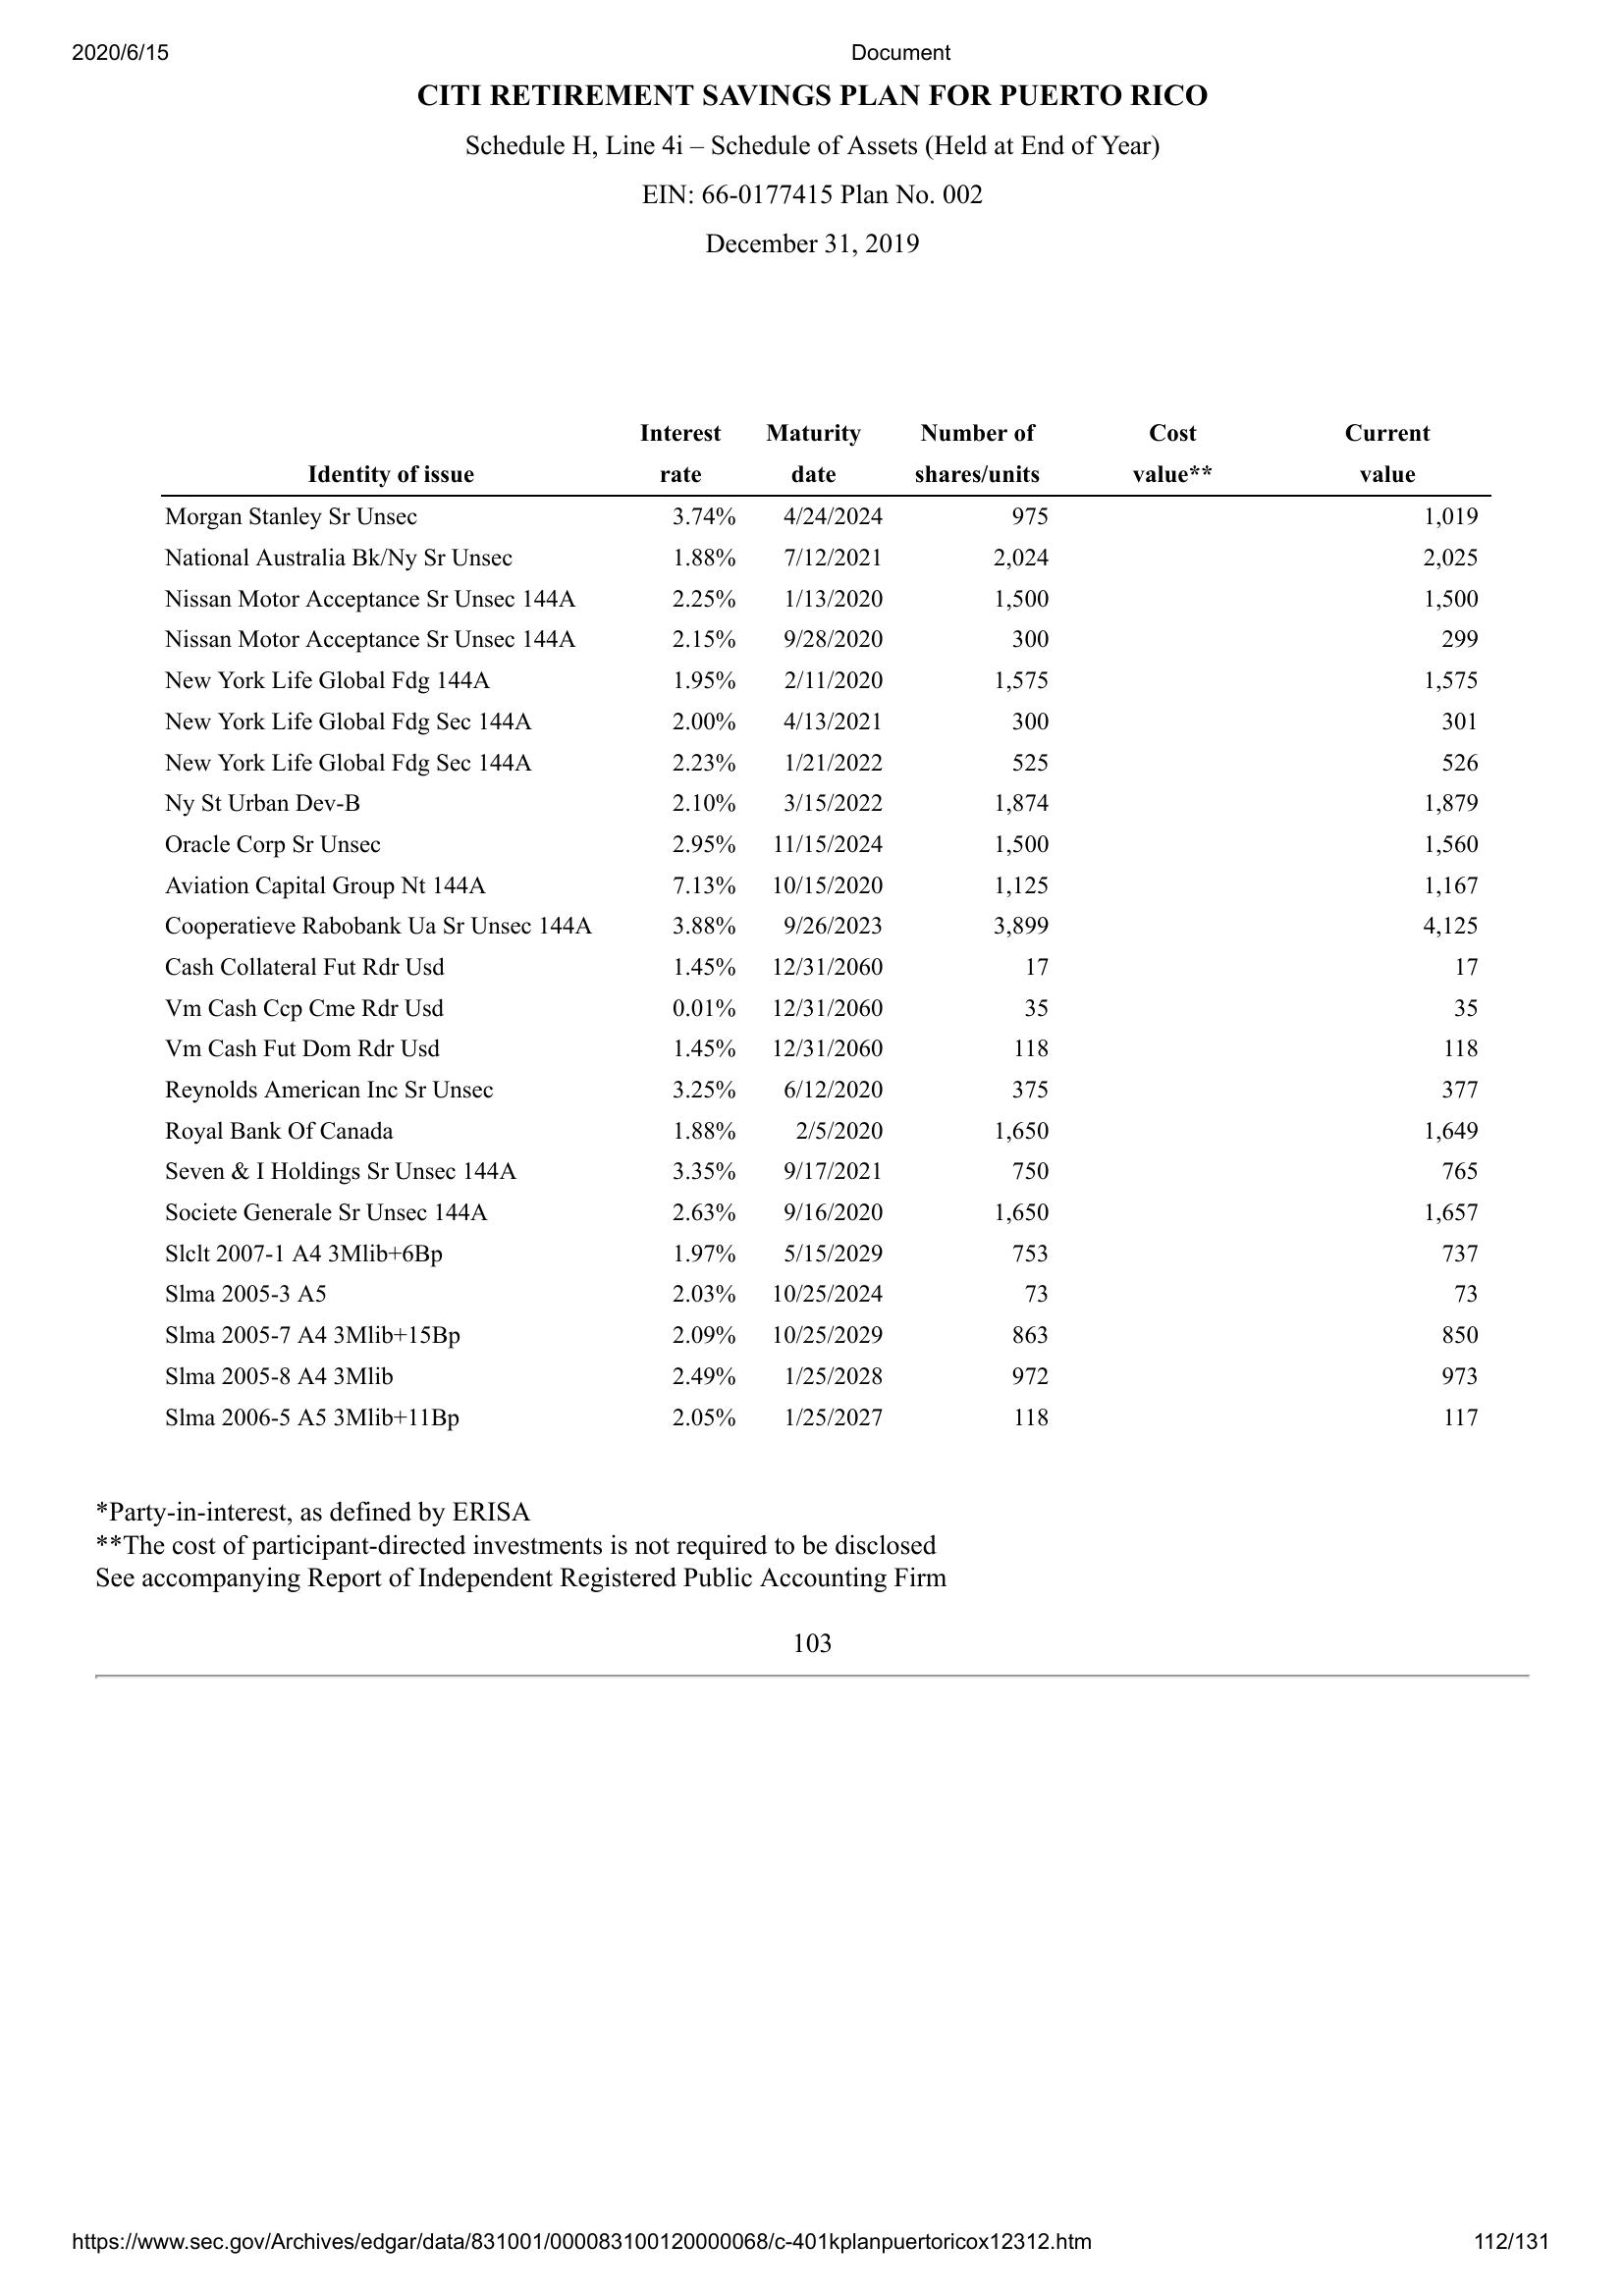table: (144, 416, 1495, 1446)
